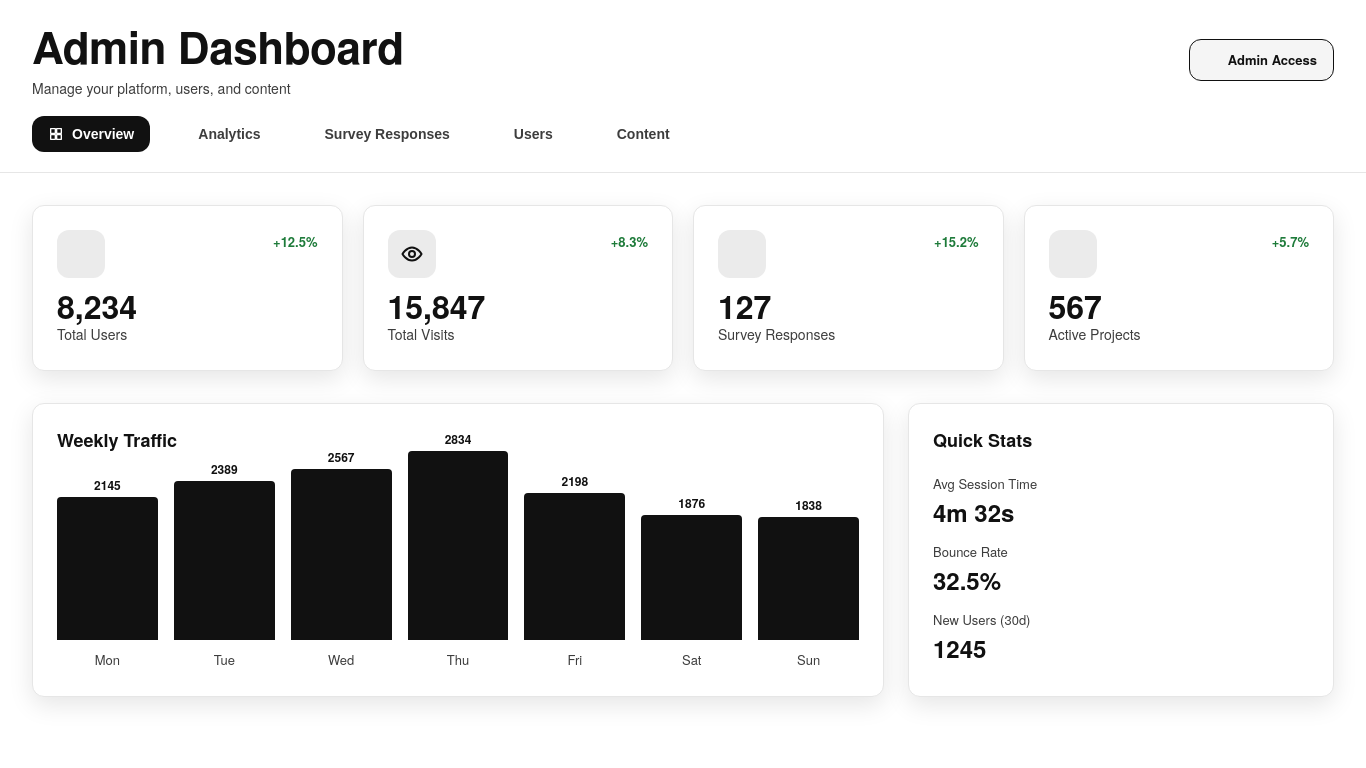
Test case: AdminDashboard › shows analytics content when the "Analytics" tab is clicked
Click the button "Analytics" at x=217, y=134, box x1=158 y1=116 x2=277 y2=152
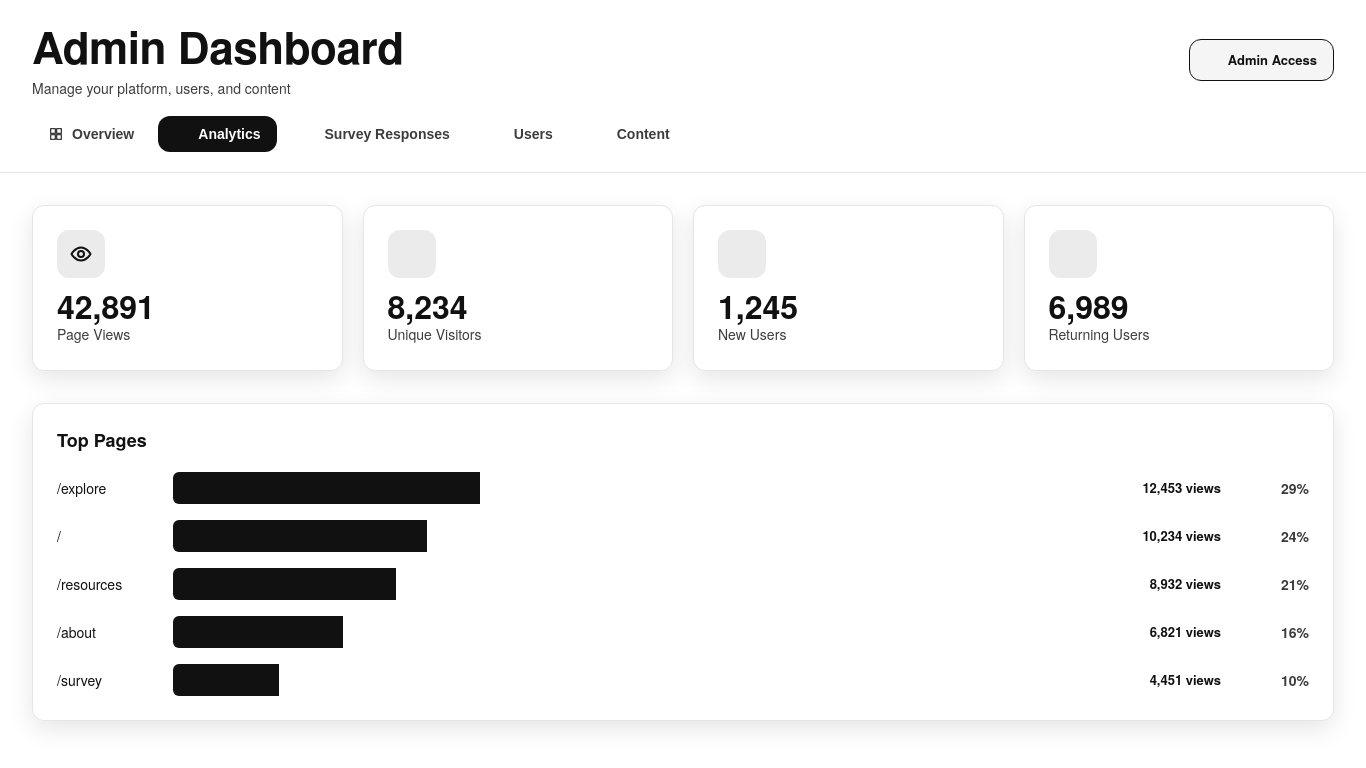
Now the text "Page Views" is shown, box x1=57 y1=324 x2=130 y2=344
Now the heading "Top Pages" is shown, box x1=57 y1=427 x2=147 y2=453
